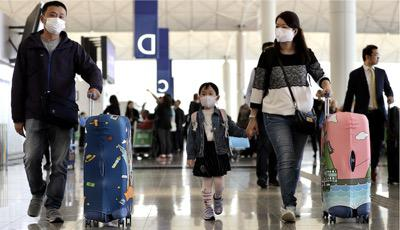with_mask: (43, 10, 65, 36), (274, 21, 293, 44), (199, 89, 215, 108)
without_mask: (370, 51, 380, 64)
